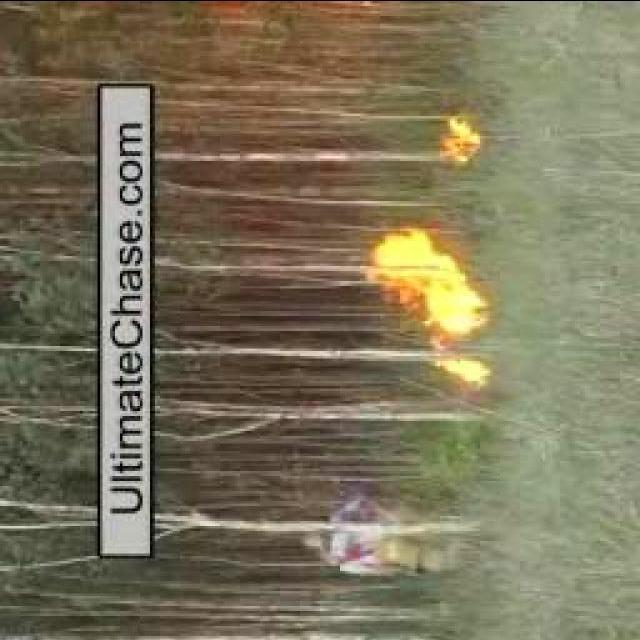Fire: (364, 222, 484, 334), (429, 112, 486, 164), (432, 354, 496, 384)
